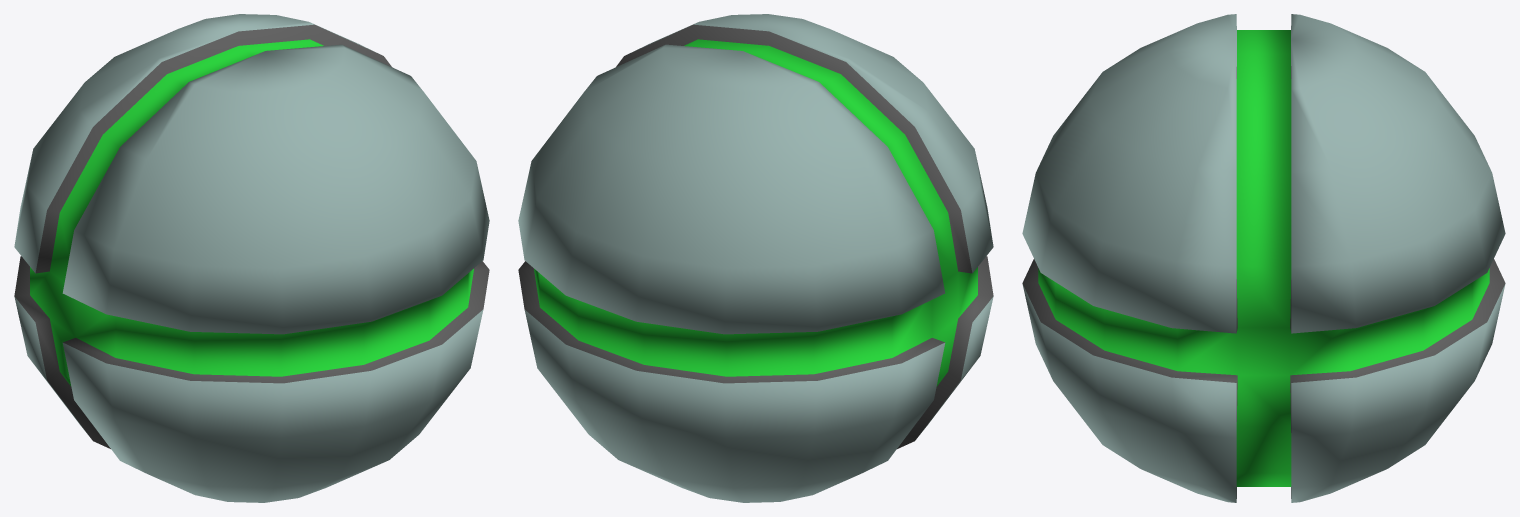
File: ball.fbx
3 renders of one model, left to right at view 1: azimuth 30°, elevation 25°; view 2: azimuth 150°, elevation 25°; view 3: azimuth 270°, elevation 25°, orthographic.
Parts seen in each view (by area): view 1: Sphere; view 2: Sphere; view 3: Sphere.
Boxes of the visible parts, x1,y1,x2,y2 form: Sphere: (14,14,489,502); Sphere: (518,14,993,502); Sphere: (1022,14,1505,502).
Size of the model in its own units: 191 by 196 by 196.
